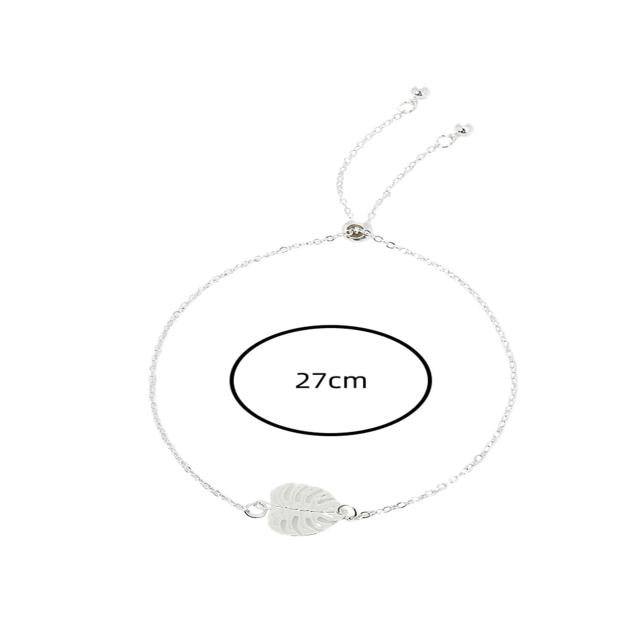bracelet: (80, 88, 640, 605)
